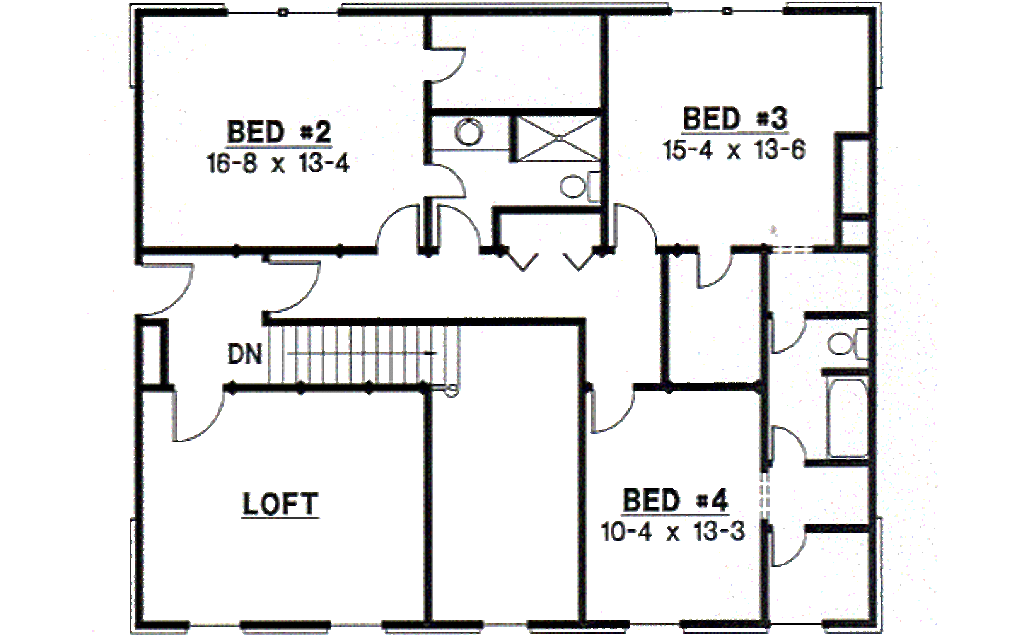door: (130, 257, 195, 323), (167, 382, 229, 444), (265, 258, 322, 313), (606, 201, 661, 255), (366, 202, 419, 258), (582, 381, 637, 433), (434, 204, 482, 257), (689, 241, 733, 295), (418, 42, 468, 86), (770, 519, 809, 572), (764, 312, 808, 356), (420, 160, 468, 199), (767, 423, 809, 463)
large_sink: (820, 327, 871, 365), (559, 166, 603, 207)
small_sink: (425, 112, 515, 157)
stairs: (259, 320, 466, 397)
tub: (820, 371, 870, 461)
windows: (220, 1, 340, 22), (665, 1, 789, 21), (180, 612, 241, 633), (317, 619, 379, 637)
